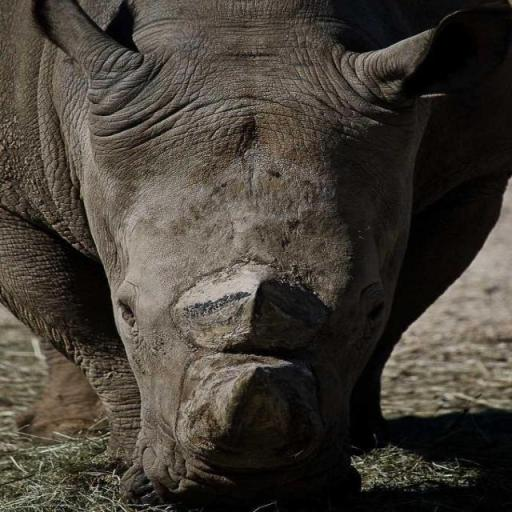Rhino: (0, 0, 510, 506)
